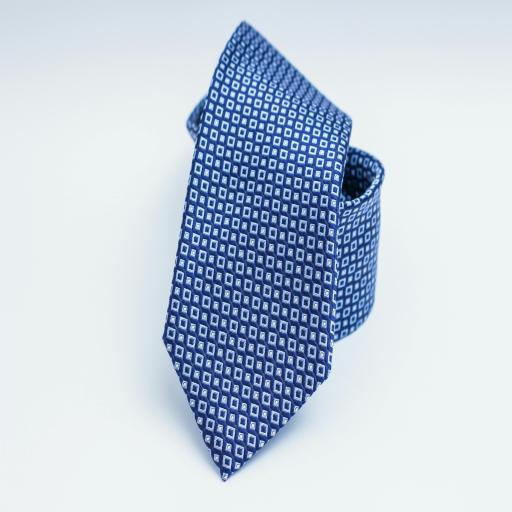tie: (162, 20, 353, 482)
